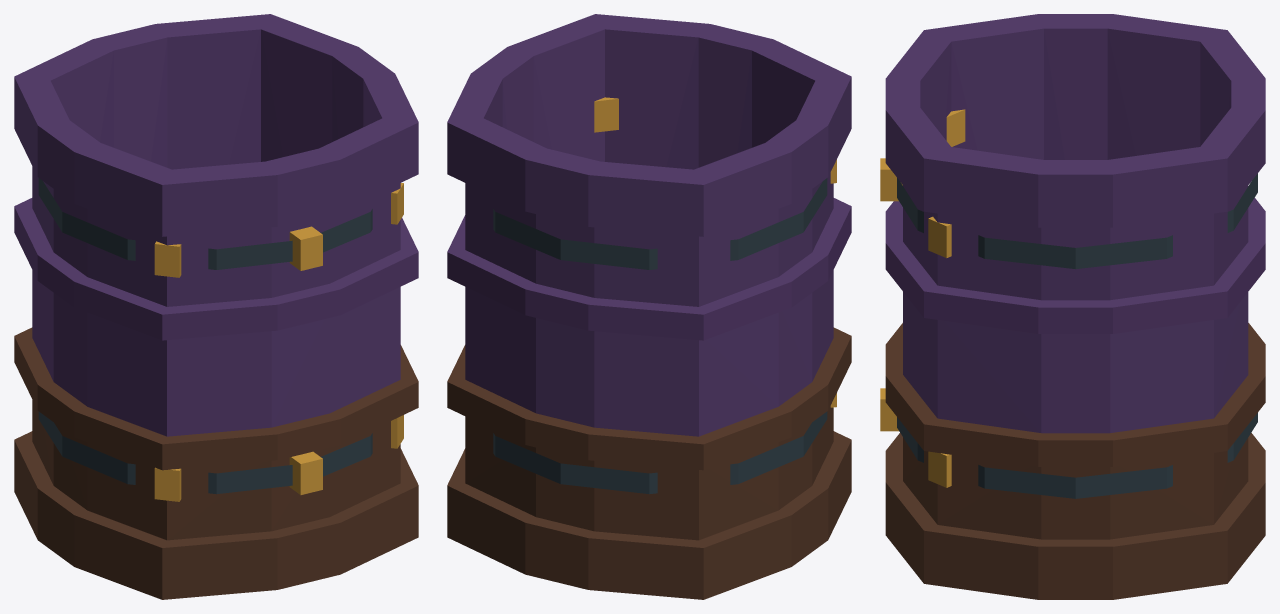
Rendered from open-barrel-lilac.glb.
3 renders of one model, left to right at view 1: azimuth 30°, elevation 25°; view 2: azimuth 150°, elevation 25°; view 3: azimuth 270°, elevation 25°, orthographic. The views are drawn at different scales.
Visible parts, largest first — view 1: open-barrel-lilac; view 2: open-barrel-lilac; view 3: open-barrel-lilac.
Part boxes in pixels (x1,y1,x2,y2): open-barrel-lilac: (14,14,418,599); open-barrel-lilac: (447,14,851,599); open-barrel-lilac: (880,14,1265,599).
Size of the model in its own units: 0.68 by 0.84 by 0.6899.
